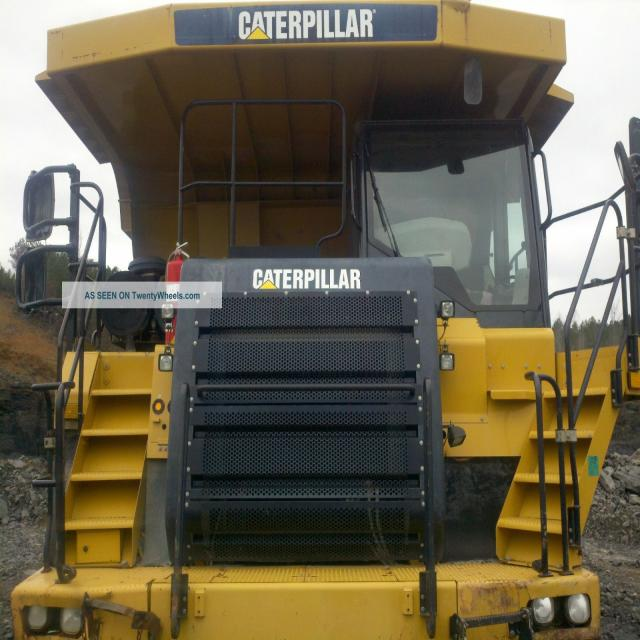dump_truck: (17, 8, 623, 634)
